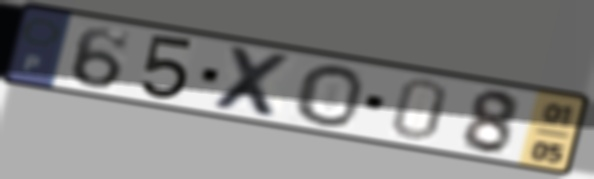0: (386, 77, 450, 144)
5: (137, 33, 195, 102)
6: (68, 24, 132, 91)
8: (459, 88, 525, 158)
O: (292, 63, 366, 129)
X: (209, 42, 297, 123)
